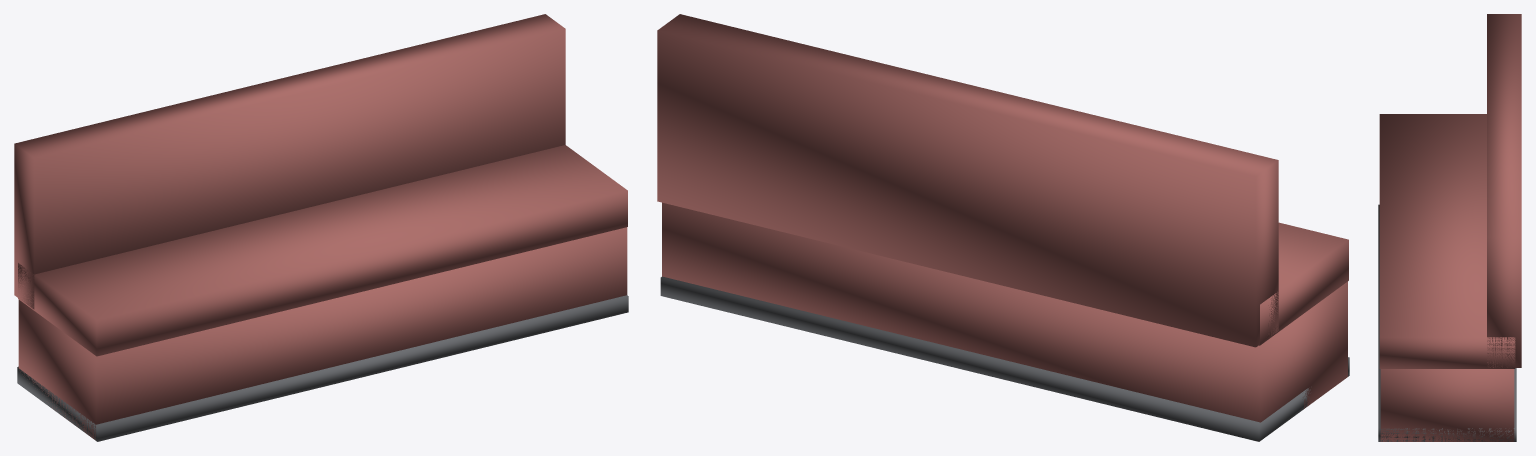
Rendered from diner_booth_double__squat.glb.
3 views of the same model, side by side, from view 1: azimuth 30°, elevation 25°; view 2: azimuth 150°, elevation 25°; view 3: azimuth 270°, elevation 25° (orthographic). The views are drawn at different scales.
Parts seen in each view (by area): view 1: world; view 2: world; view 3: world.
Boxes of the visible parts, box(x1,y1,x2,y2) form: world: box(14, 14, 628, 441); world: box(657, 14, 1349, 441); world: box(1378, 14, 1521, 441).
Size of the model in its own units: 2.31 by 0.987 by 0.6264.
